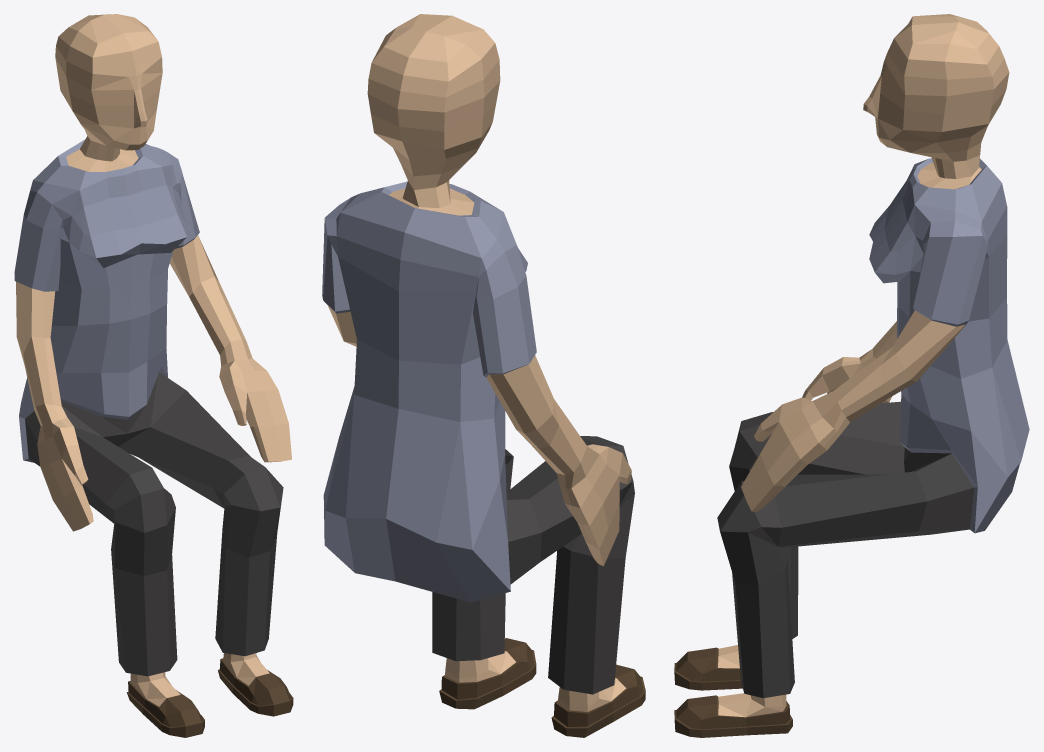
The model's file is Female_Sitting.glb.
3 views of the same model, side by side, from view 1: azimuth 30°, elevation 25°; view 2: azimuth 150°, elevation 25°; view 3: azimuth 270°, elevation 25° (orthographic). The views are drawn at different scales.
Visible parts, largest first — view 1: Female_Sitting; view 2: Female_Sitting; view 3: Female_Sitting.
Boxes of the visible parts, x1,y1,x2,y2 form: Female_Sitting: (14, 14, 293, 737); Female_Sitting: (322, 14, 645, 737); Female_Sitting: (674, 14, 1029, 737).
Bounding box in the file's own units: 1.02 × 2.97 × 1.41.
